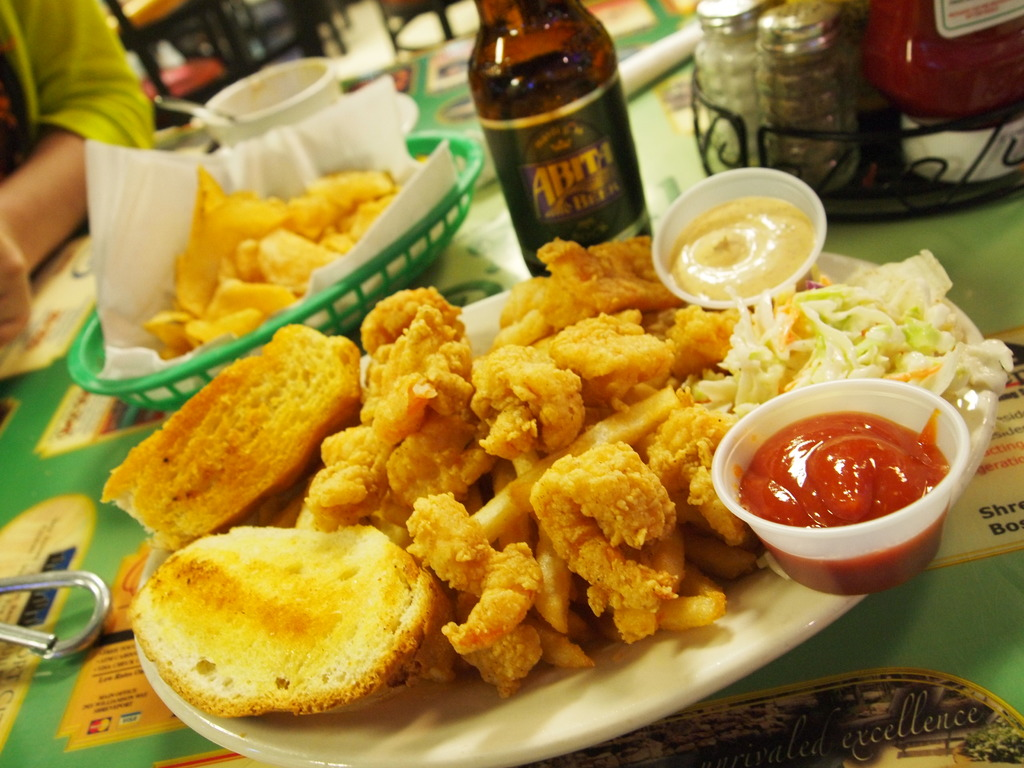French fries: (301, 282, 722, 668)
